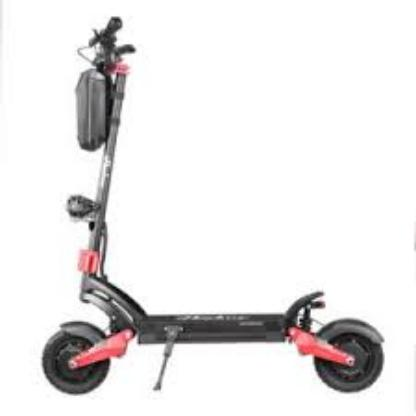bike: (42, 20, 393, 400), (281, 291, 386, 394)
